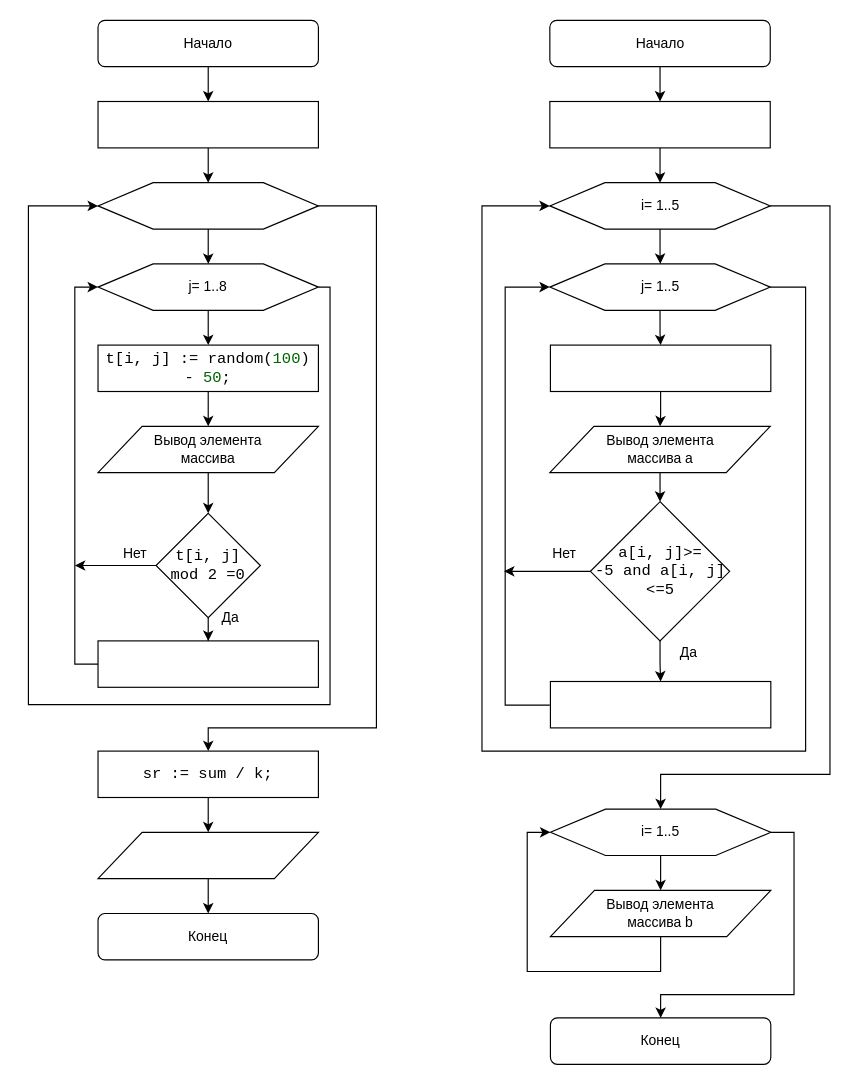
The diagram is 860 pixels wide and 1085 high, and some of its shapes have lost their labels. The centre of each missing label's shape, as x and y in pixels:
"a[i, j] := random( 100 ) - 50 ;" belongs at (660,368).
"b[k]:= a[i, j]; k:= k + 1;" belongs at (660,704).
"i= 1..7" belongs at (207,205).
"randomize;" belongs at (207,124).
"randomize; k:= 1 ;" belongs at (659,124).
"sum += t[i, j]; k += 1 ;" belongs at (207,663).
"Вывод среднее арифметическое" belongs at (207,855).
